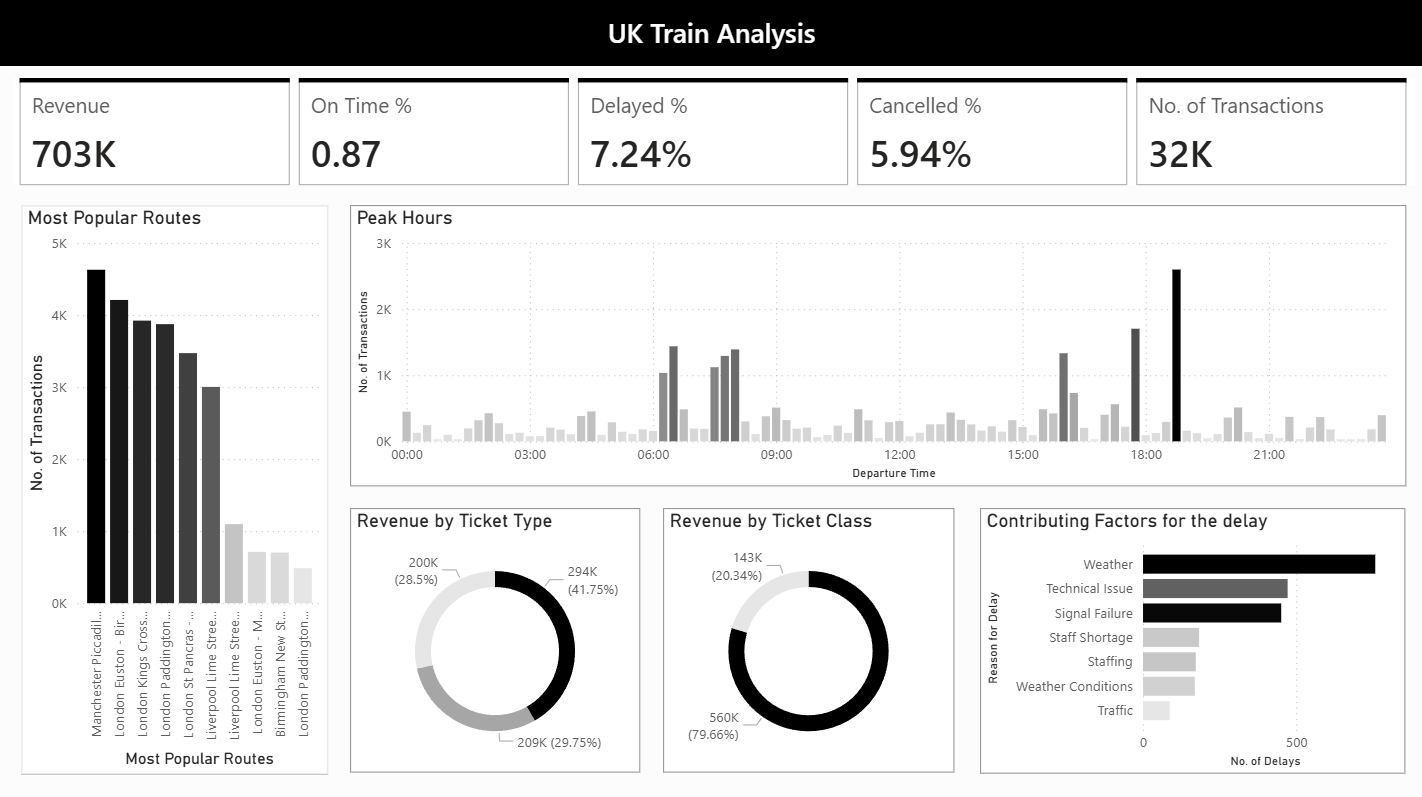

Layout of this report page (visuals, bound fields, positions):
{"tool":"powerbi","page":{"name":"Page 1","canvas":[1280,720],"ordinal":0},"visuals":[{"type":"columnChart","title":"Most Popular Routes","fields":{"Category":["railway.Most Popular Routes"],"Y":["Measures List.No. of Transactions"]},"box":[21.5,185.4,274.9,509.6],"z":0},{"type":"columnChart","title":"Peak Hours","fields":{"Y":["Measures List.No. of Transactions"],"Category":["railway.Departure Time"]},"box":[316.1,185.4,945.7,251.6],"z":1},{"type":"donutChart","fields":{"Y":["Measures List.Revenue"],"Category":["railway.Ticket Class"]},"box":[596.4,456.7,260.6,237.3],"z":2},{"type":"donutChart","fields":{"Y":["Measures List.Revenue"],"Category":["railway.Ticket Type"]},"box":[316.1,456.7,259.7,237.3],"z":3},{"type":"barChart","title":"Contributing Factors for the delay","fields":{"Y":["Measures List.No. of Delays"],"Category":["railway.Reason for Delay"]},"box":[880.3,456.7,381.5,238.2],"z":4},{"type":"shape","box":[15.2,0,1254.7,60.7],"z":5},{"type":"cardVisual","fields":{"Data":["Measures List.Revenue","Measures List.On Time %","Measures List.Delayed %","Measures List.Cancelled %","Measures List.No. of Transactions"]},"box":[15.2,71.8,1254.7,96.1],"z":6}]}

Visuals, with their boxes in screenshot pixels (x1, y1, x2, y2), scaled from the page's 1280x720 canvas onto the 1422x797 screenshot:
"Most Popular Routes" columnChart: bbox=[24, 205, 329, 769]
"Peak Hours" columnChart: bbox=[351, 205, 1402, 484]
donutChart - Measures List.Revenue x railway.Ticket Class: bbox=[663, 506, 952, 768]
donutChart - Measures List.Revenue x railway.Ticket Type: bbox=[351, 506, 640, 768]
"Contributing Factors for the delay" barChart: bbox=[978, 506, 1402, 769]
shape: bbox=[17, 0, 1411, 67]
cardVisual - Measures List.Revenue x Measures List.On Time %: bbox=[17, 79, 1411, 186]
